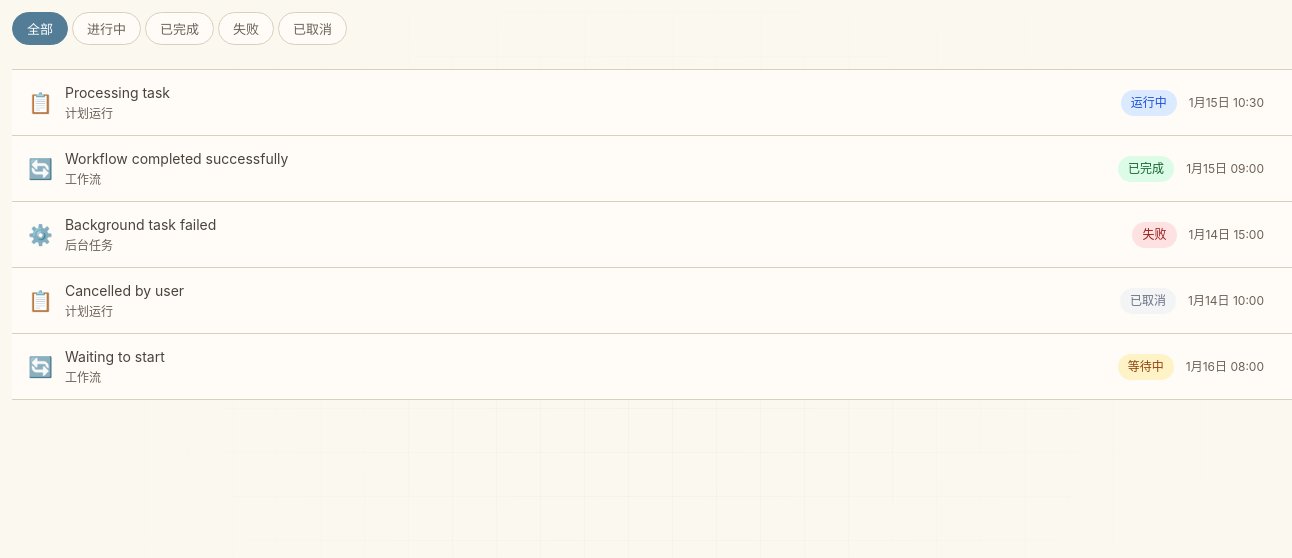
RunList › filters by failed status
Click the tab with test id "filter-failed": x=246, y=28 [218,12,274,45]
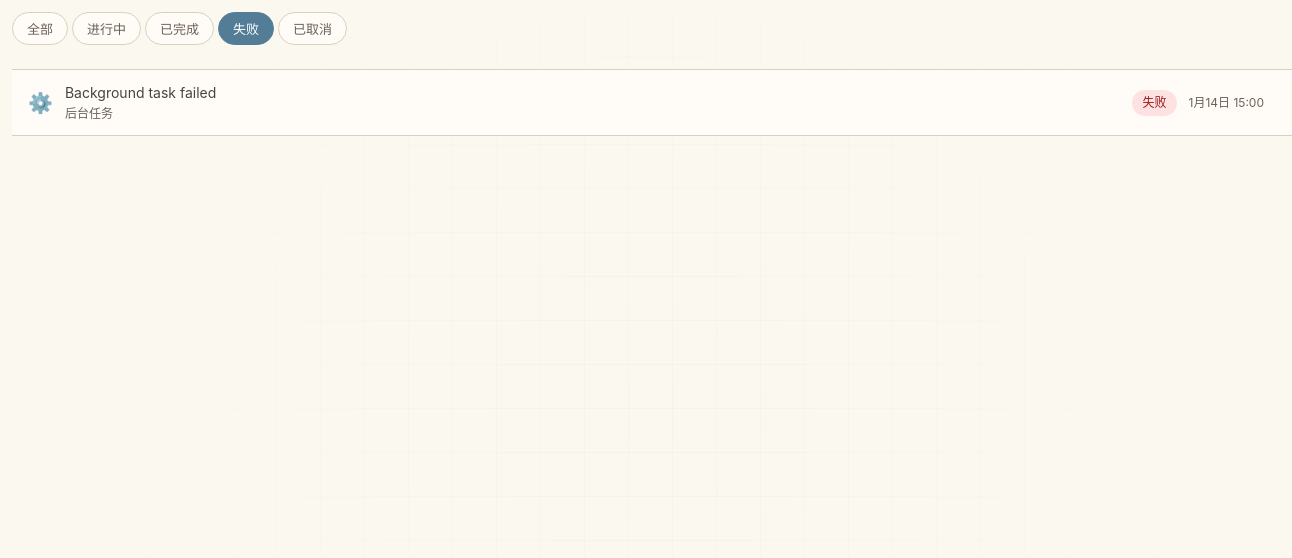
Expected: the list item with test id "run-row-run-3" is shown, [12,69,1291,136]
Expected: the list item with test id "run-row-run-1" is gone
